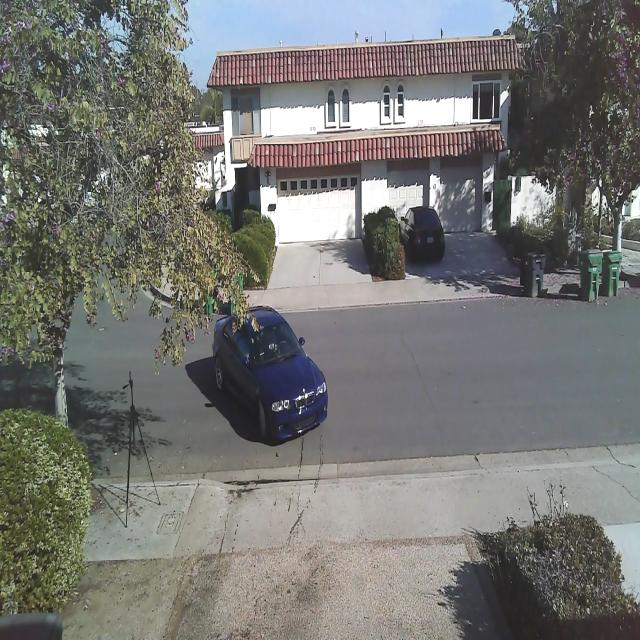Carbeetle: (200, 278, 340, 458)
